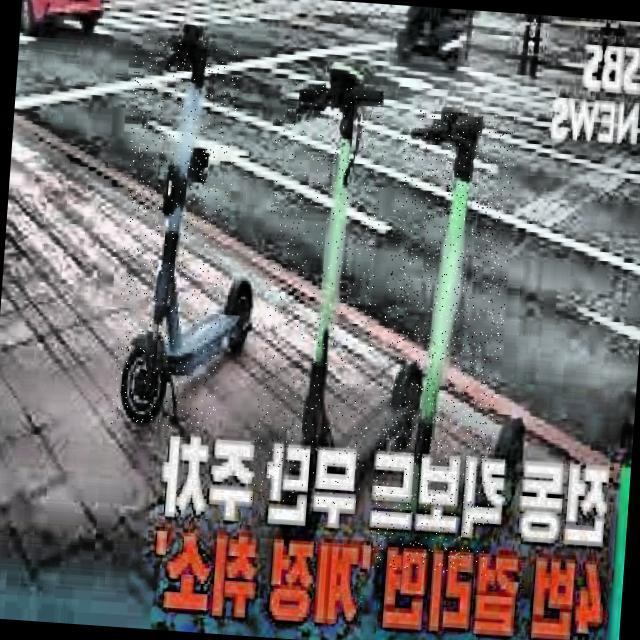bike: (120, 25, 255, 426)
car: (21, 0, 105, 37)
